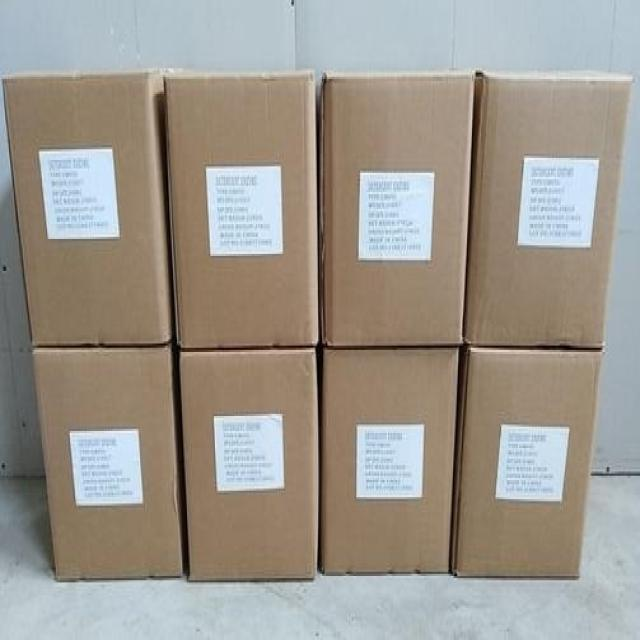box: (2, 69, 174, 348), (463, 73, 633, 348), (164, 72, 322, 354), (323, 70, 472, 344), (449, 345, 605, 577), (32, 347, 183, 580), (181, 348, 319, 582), (322, 348, 460, 574)
